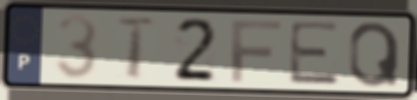2: (169, 16, 223, 85)
3: (52, 10, 101, 84)
E: (286, 19, 344, 87)
F: (228, 18, 284, 85)
Q: (346, 20, 402, 90)
T: (113, 15, 161, 82)
